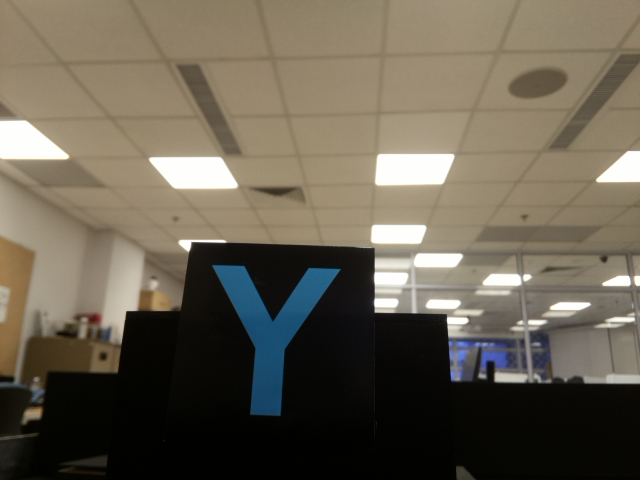y: (207, 259, 351, 417)
